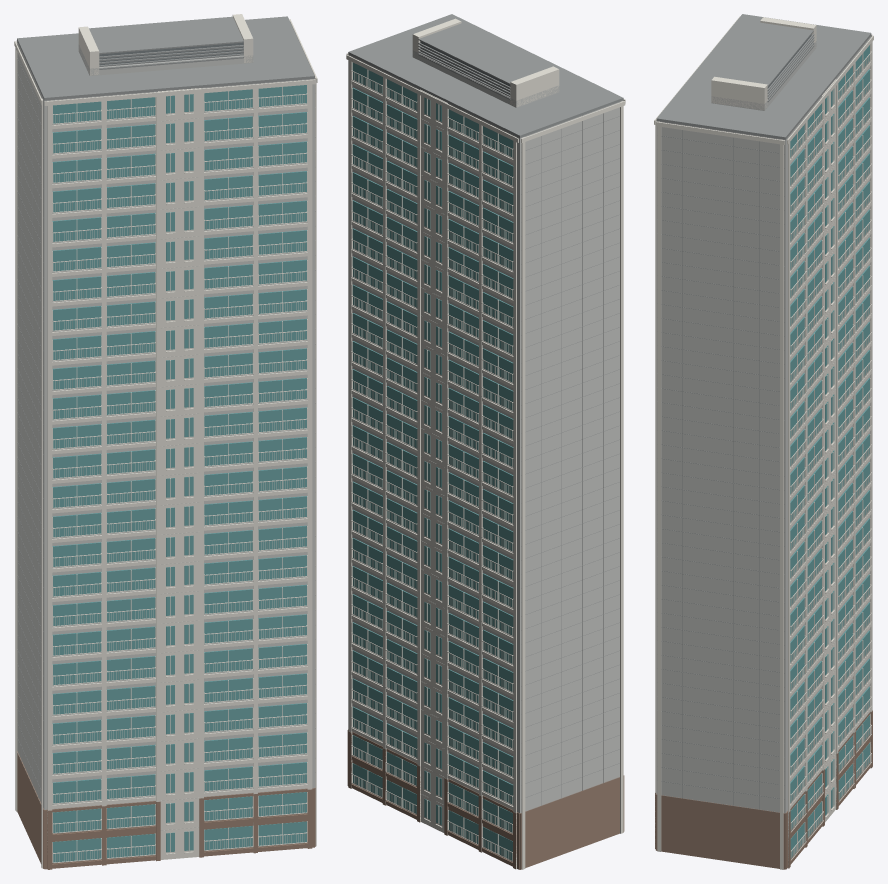
Rendered from bespoke-jamsil-els-130.glb.
3 renders of one model, left to right at view 1: azimuth 30°, elevation 25°; view 2: azimuth 150°, elevation 25°; view 3: azimuth 270°, elevation 25°, orthographic. The views are drawn at different scales.
Parts seen in each view (by area): view 1: Els130_editable_Els130_turquoise_balcony_glazing, Els130_editable_Els130_light_grey_solid_wall, Els130_white_exact_chunk_2, Els130_white_exact_chunk_1, Els130_white_exact_chunk_3, Els130_editable_Els130_modest_grey_flat_roof_caps, Els130_editable_Els130_muted_ground_wall, Els130_editable_Els130_narrow_charcoal_service_strips; view 2: Els130_editable_Els130_light_grey_solid_wall, Els130_editable_Els130_turquoise_balcony_glazing, Els130_white_exact_chunk_0, Els130_white_exact_chunk_1, Els130_editable_Els130_modest_grey_flat_roof_caps, Els130_editable_Els130_muted_ground_wall, Els130_white_exact_chunk_3, Els130_editable_Els130_narrow_charcoal_service_strips; view 3: Els130_editable_Els130_light_grey_solid_wall, Els130_editable_Els130_turquoise_balcony_glazing, Els130_white_exact_chunk_0, Els130_editable_Els130_modest_grey_flat_roof_caps, Els130_white_exact_chunk_1, Els130_white_exact_chunk_3, Els130_editable_Els130_muted_ground_wall.
Part boxes in pixels (bbox=[...]): Els130_editable_Els130_turquoise_balcony_glazing: bbox=[52, 85, 306, 862]; Els130_editable_Els130_light_grey_solid_wall: bbox=[17, 41, 314, 830]; Els130_white_exact_chunk_2: bbox=[47, 89, 307, 858]; Els130_white_exact_chunk_1: bbox=[14, 40, 201, 868]; Els130_white_exact_chunk_3: bbox=[44, 14, 317, 852]; Els130_editable_Els130_modest_grey_flat_roof_caps: bbox=[17, 16, 315, 804]; Els130_editable_Els130_muted_ground_wall: bbox=[17, 751, 315, 869]; Els130_editable_Els130_narrow_charcoal_service_strips: bbox=[99, 42, 243, 65]; Els130_editable_Els130_light_grey_solid_wall: bbox=[348, 50, 623, 813]; Els130_editable_Els130_turquoise_balcony_glazing: bbox=[352, 62, 513, 860]; Els130_white_exact_chunk_0: bbox=[348, 56, 478, 844]; Els130_white_exact_chunk_1: bbox=[346, 55, 625, 869]; Els130_editable_Els130_modest_grey_flat_roof_caps: bbox=[348, 14, 623, 810]; Els130_editable_Els130_muted_ground_wall: bbox=[347, 729, 624, 869]; Els130_white_exact_chunk_3: bbox=[346, 18, 625, 106]; Els130_editable_Els130_narrow_charcoal_service_strips: bbox=[420, 41, 510, 94]; Els130_editable_Els130_light_grey_solid_wall: bbox=[656, 36, 871, 813]; Els130_editable_Els130_turquoise_balcony_glazing: bbox=[790, 45, 869, 858]; Els130_white_exact_chunk_0: bbox=[788, 79, 854, 867]; Els130_editable_Els130_modest_grey_flat_roof_caps: bbox=[656, 14, 871, 812]; Els130_white_exact_chunk_1: bbox=[787, 34, 873, 809]; Els130_white_exact_chunk_3: bbox=[654, 16, 816, 869]; Els130_editable_Els130_muted_ground_wall: bbox=[655, 710, 872, 869].
Size of the model in its own units: 26.29 by 73.8 by 19.47.
